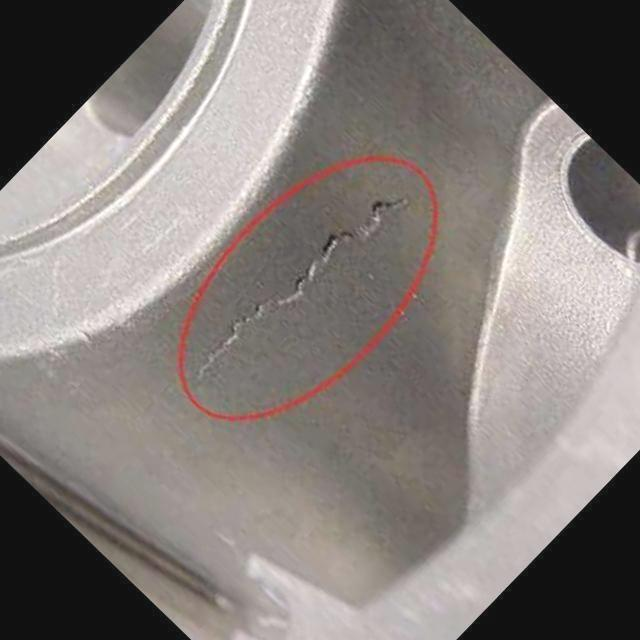defect: (190, 191, 417, 390)
